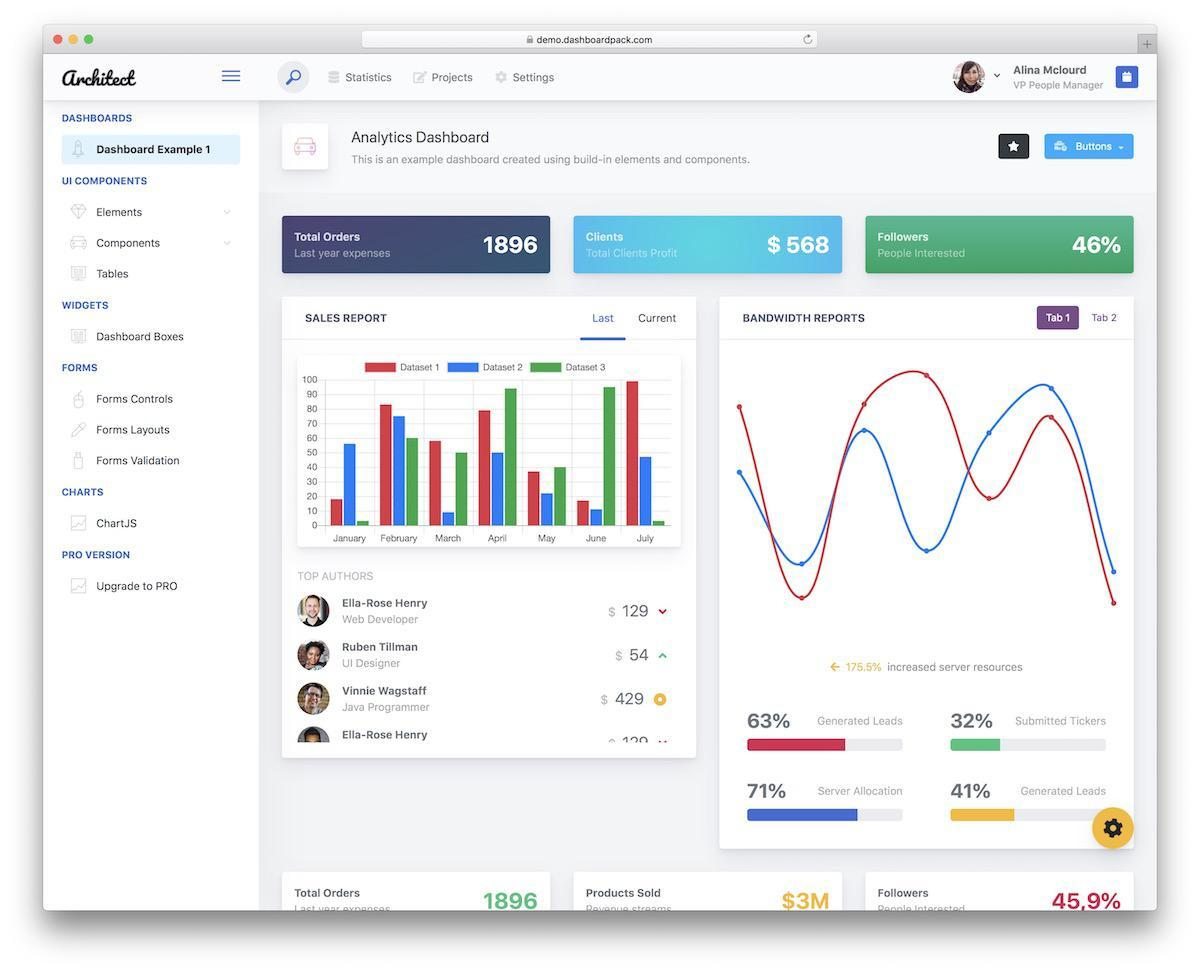button: (64, 135, 243, 167), (1038, 306, 1080, 330), (1000, 132, 1030, 159), (1118, 66, 1140, 89)
dropdown: (65, 228, 240, 259), (66, 198, 241, 228), (1046, 135, 1133, 159), (993, 70, 1004, 82)
icon: (1093, 805, 1134, 850), (951, 60, 988, 98), (278, 60, 312, 95), (217, 64, 247, 90), (293, 136, 320, 160), (67, 450, 92, 472), (67, 419, 91, 441), (69, 576, 90, 599), (68, 514, 92, 534), (69, 390, 90, 412), (69, 326, 89, 347), (70, 266, 89, 284), (327, 68, 342, 86), (412, 71, 428, 86), (495, 71, 509, 85)
label: (350, 127, 493, 148), (96, 580, 183, 596), (95, 330, 187, 345), (97, 392, 176, 408), (96, 455, 183, 469), (96, 425, 174, 438), (346, 71, 393, 85), (97, 518, 140, 533), (636, 313, 682, 326), (513, 73, 556, 86), (96, 268, 134, 282), (433, 73, 474, 85), (589, 313, 619, 326), (1092, 312, 1120, 325)
